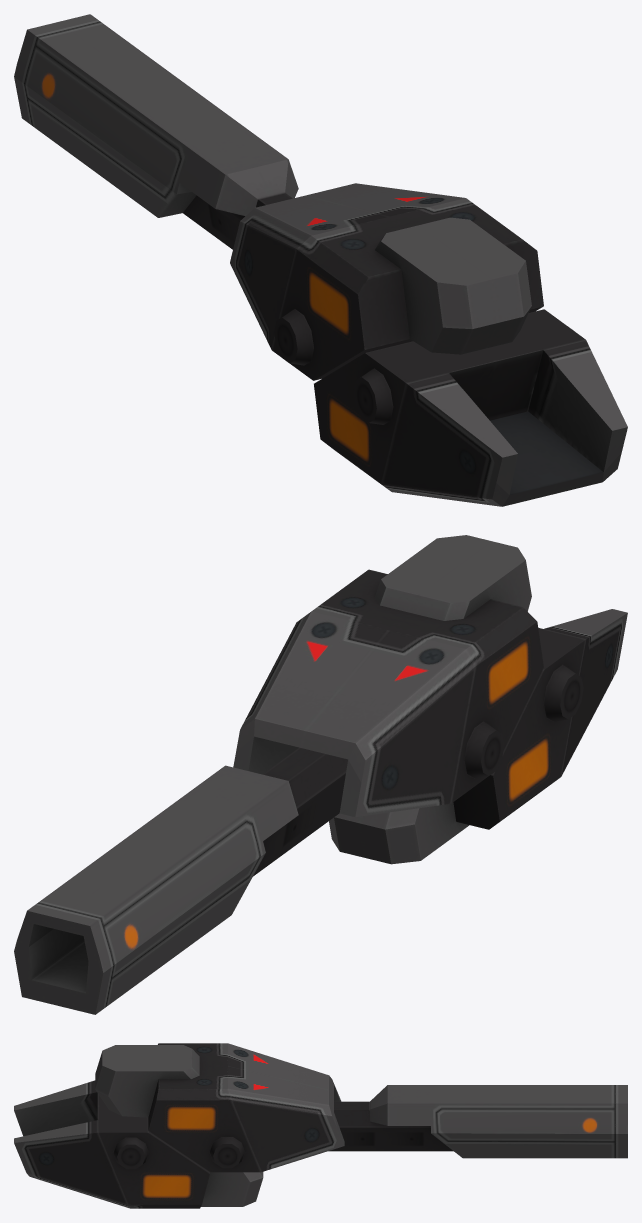
The model's file is NewRail.fbx.
3 renders of one model, top to bottom at view 1: azimuth 30°, elevation 25°; view 2: azimuth 150°, elevation 25°; view 3: azimuth 270°, elevation 25°, orthographic. The views are drawn at different scales.
Visible parts, largest first — view 1: Arcade1_CanonX003.005, Arcade1_CanonX003.007, Arcade1_CanonX003.006; view 2: Arcade1_CanonX003.005, Arcade1_CanonX003.006, Arcade1_CanonX003.007; view 3: Arcade1_CanonX003.005, Arcade1_CanonX003.006, Arcade1_CanonX003.007.
Part boxes in pixels (bbox=[...]): Arcade1_CanonX003.005: bbox=[230, 183, 543, 380]; Arcade1_CanonX003.007: bbox=[314, 309, 627, 506]; Arcade1_CanonX003.006: bbox=[14, 14, 298, 249]; Arcade1_CanonX003.005: bbox=[233, 535, 543, 817]; Arcade1_CanonX003.006: bbox=[14, 747, 347, 1014]; Arcade1_CanonX003.007: bbox=[329, 609, 627, 864]; Arcade1_CanonX003.005: bbox=[95, 1043, 344, 1172]; Arcade1_CanonX003.006: bbox=[328, 1085, 627, 1158]; Arcade1_CanonX003.007: bbox=[14, 1080, 263, 1208].
Bounding box in the file's own units: 6.59 × 6.82 × 27.96.
